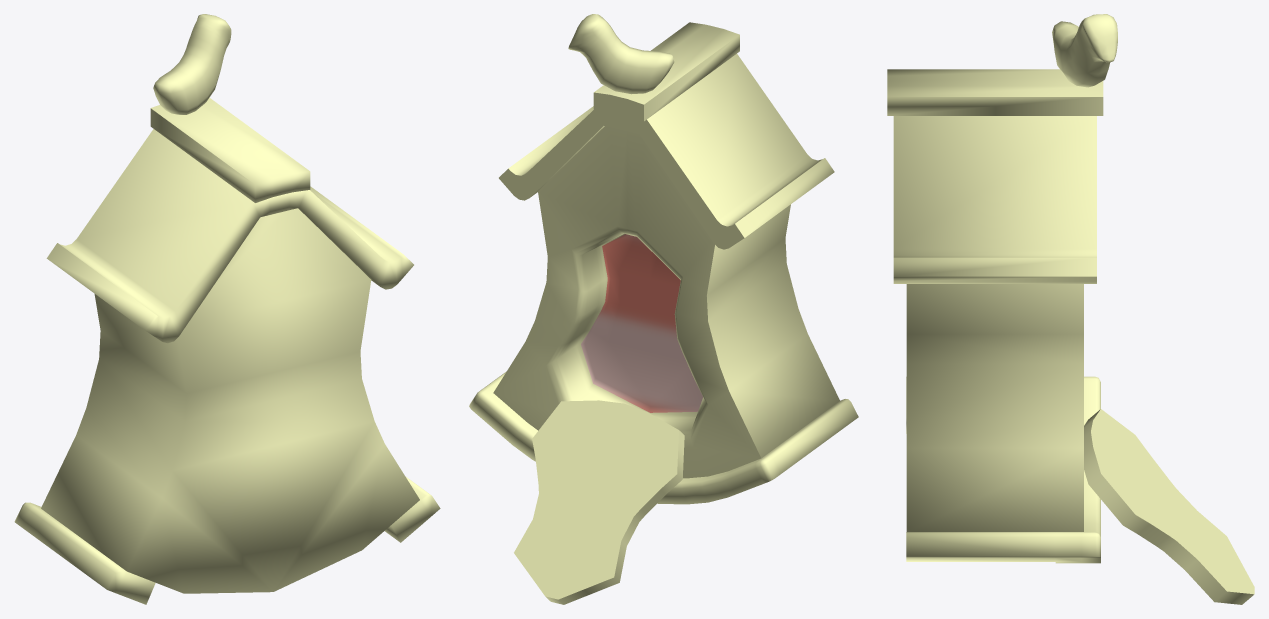
File: MailboxE_yellow.fbx
3 renders of one model, left to right at view 1: azimuth 30°, elevation 25°; view 2: azimuth 150°, elevation 25°; view 3: azimuth 270°, elevation 25°, orthographic. The views are drawn at different scales.
Parts seen in each view (by area): view 1: MailboxE_blue.002, MailboxE_roofs.002, MailboxE_birdie.002; view 2: MailboxE_blue.002, MailboxE_roofs.002, MailboxE_door.002, MailboxE_birdie.002; view 3: MailboxE_roofs.002, MailboxE_blue.002, MailboxE_door.002, MailboxE_birdie.002.
Part boxes in pixels (x1,y1,x2,y2): MailboxE_blue.002: (41,208,419,593); MailboxE_roofs.002: (14,97,440,604); MailboxE_birdie.002: (153,14,231,114); MailboxE_blue.002: (493,126,839,478); MailboxE_roofs.002: (469,22,858,504); MailboxE_door.002: (514,400,684,604); MailboxE_birdie.002: (568,14,674,94); MailboxE_roofs.002: (887,69,1103,563); MailboxE_blue.002: (906,284,1083,531); MailboxE_door.002: (1084,409,1254,604); MailboxE_birdie.002: (1052,14,1117,87).
Size of the model in its own units: 131 by 219 by 121.
